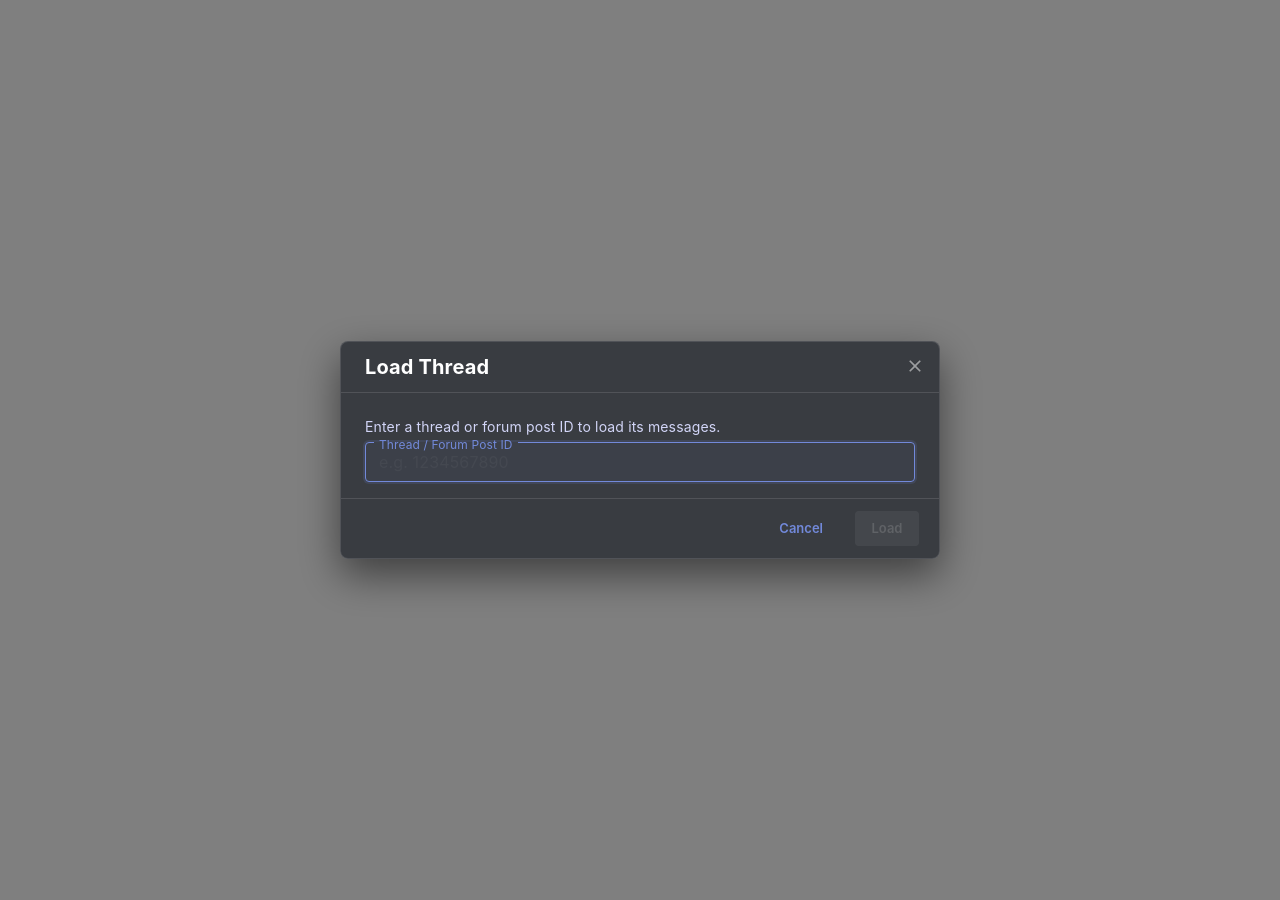
it: ThreadLoadModal › should enable Load button when input has value
In the field labelled "Thread / Forum Post ID": (640, 462) x1=365 y1=442 x2=915 y2=482, type "1234567890"
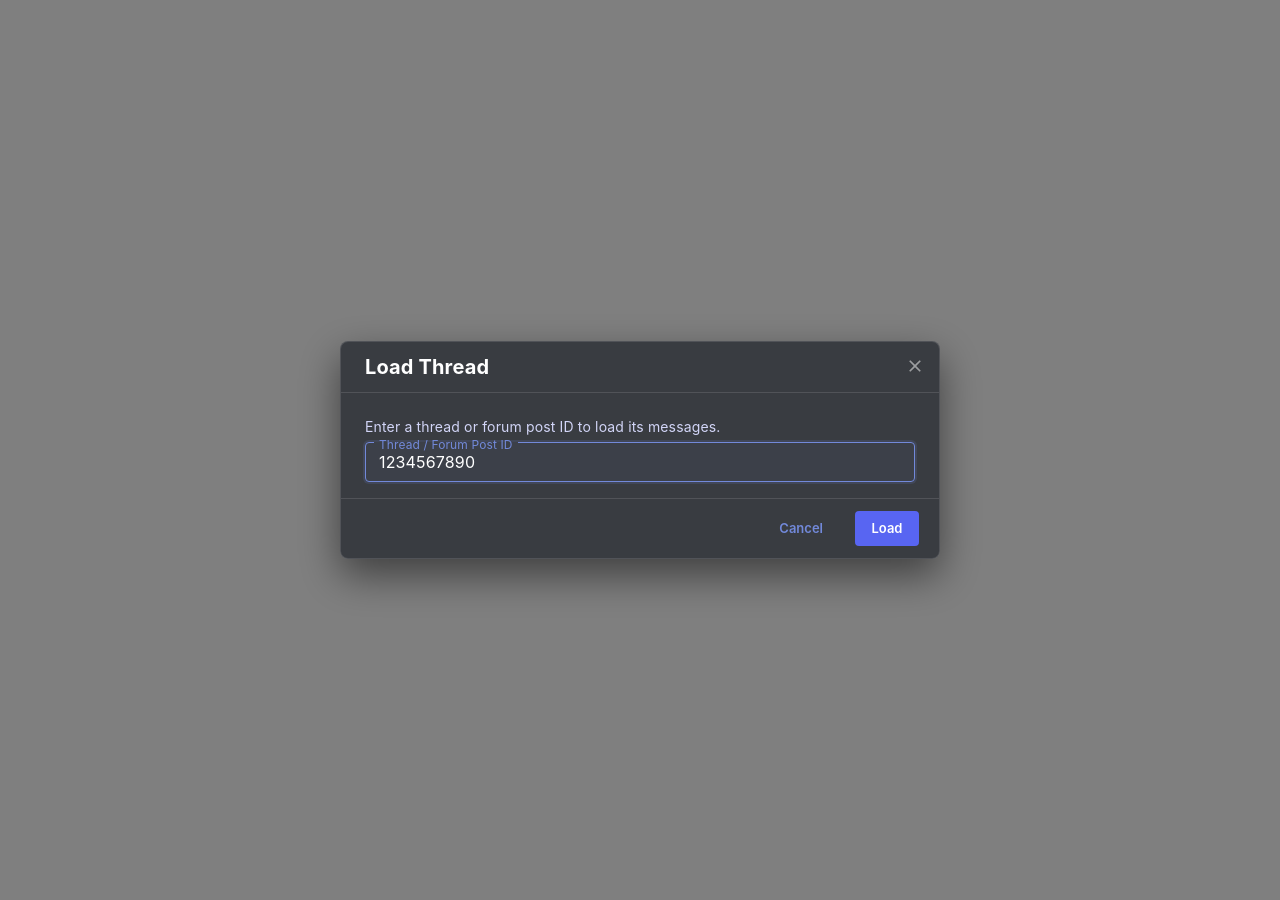
Now the button "Load" is enabled, box x1=855 y1=511 x2=919 y2=546
